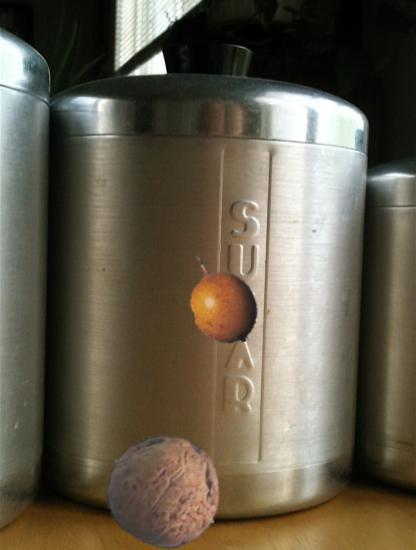Granadilla: (173, 250, 270, 347)
Walnut: (107, 433, 223, 549)
